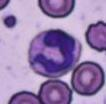N: (27, 29, 81, 77)
